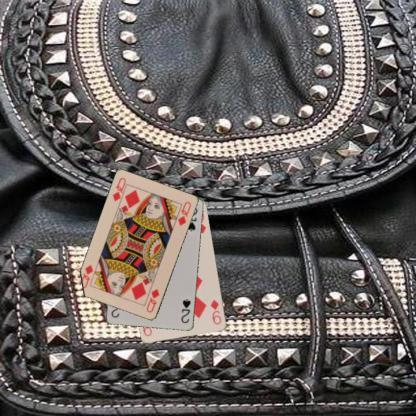2s: (178, 296, 192, 325)
9d: (208, 297, 223, 326)
Qd: (110, 175, 129, 206), (144, 286, 160, 314)
